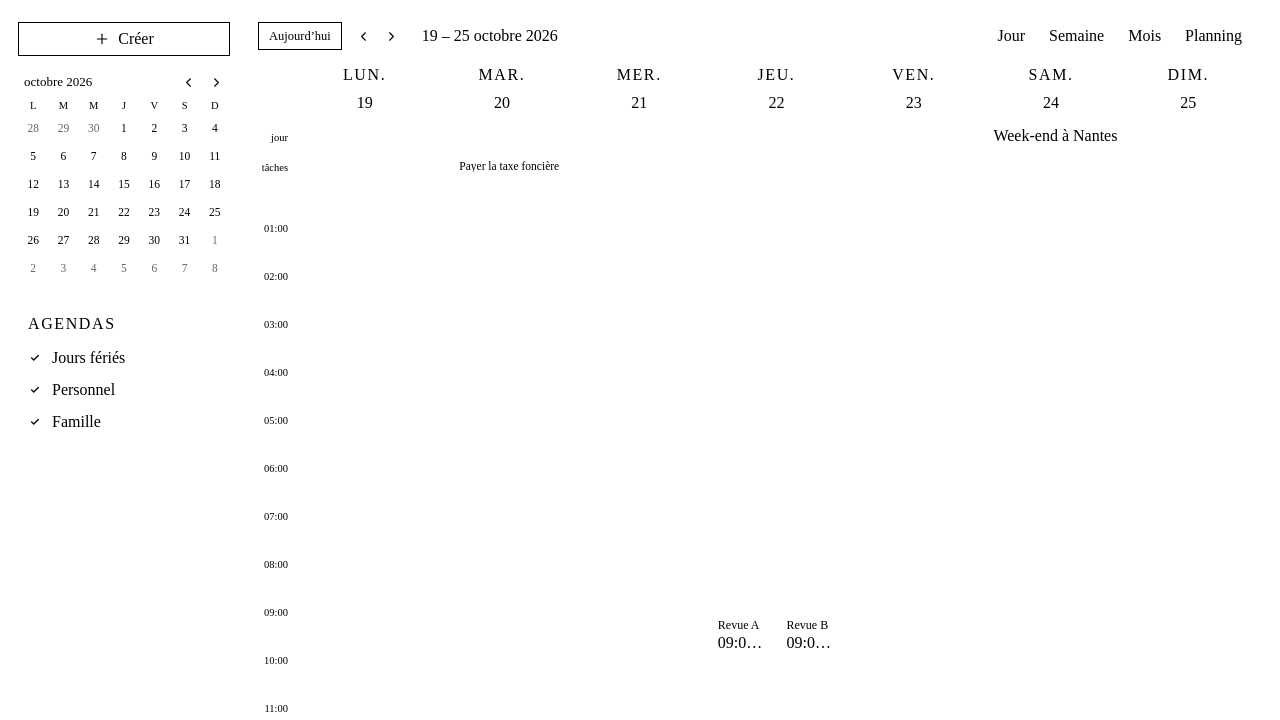
Agenda › keeps the same event id of two calendars apart, and hides an unticked calendar
The image size is (1280, 720).
Expected: the button "Revue A 09:00 – 10:00" is shown, [711,614,772,660]
Expected: the button "Revue B 09:00 – 10:00" is shown, [780,614,841,660]
Click the checkbox labelled "Famille" at [65, 422], box [30,413,101,430]
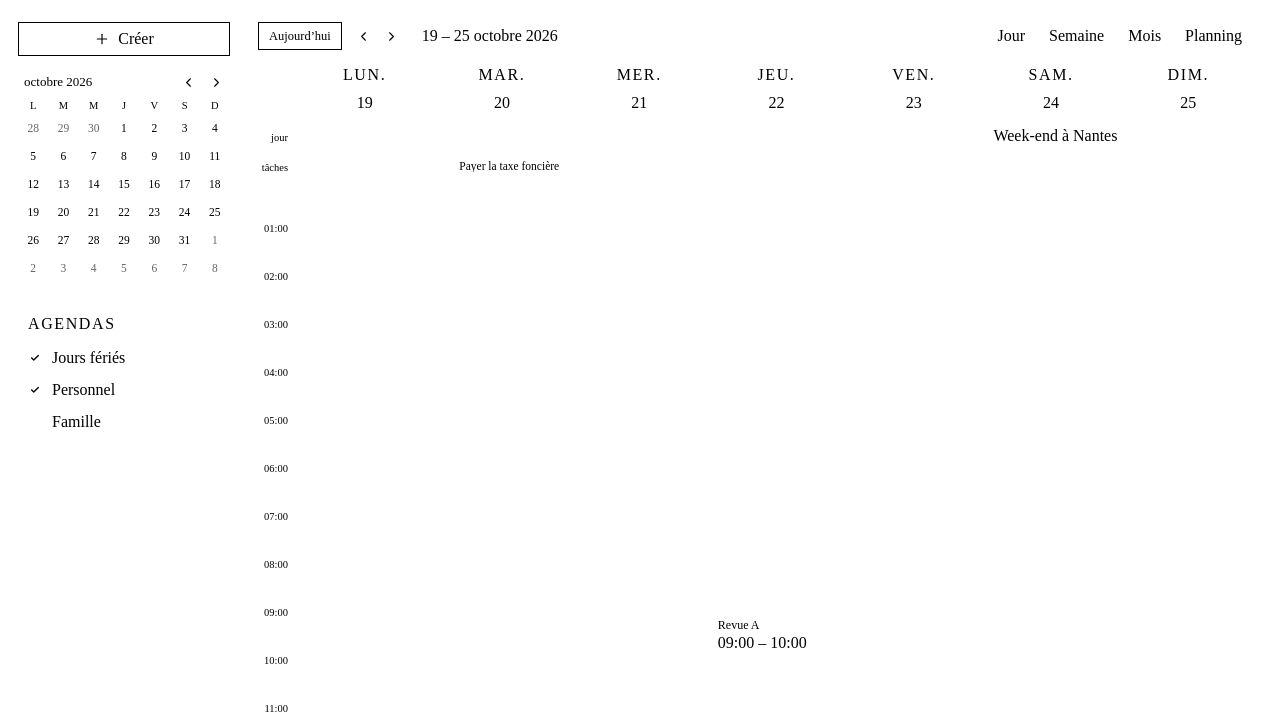
Expected: the button "Revue A 09:00 – 10:00" is shown, [711,614,841,660]
Expected: the button "Revue B" is gone
